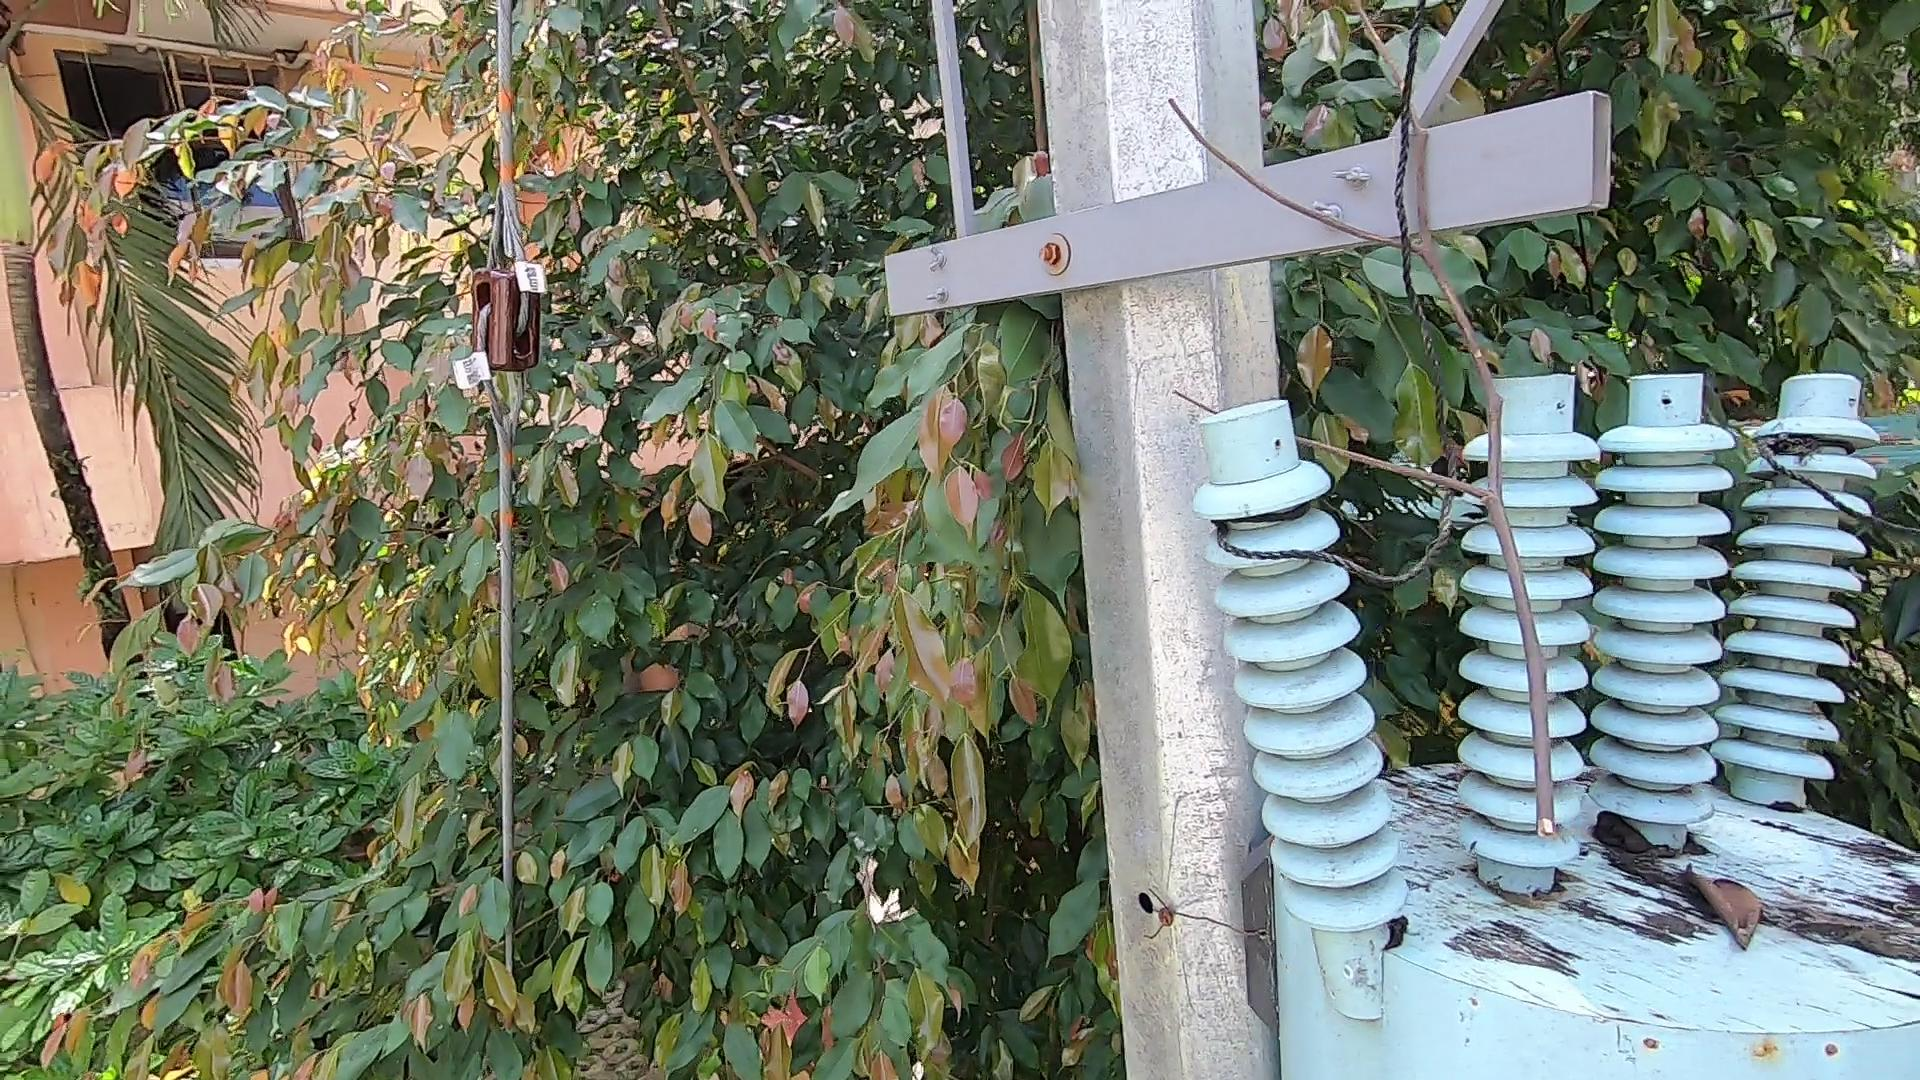leaf: (1677, 860, 1774, 964), (1590, 807, 1656, 864)
tree branch: (1154, 25, 1588, 844)
